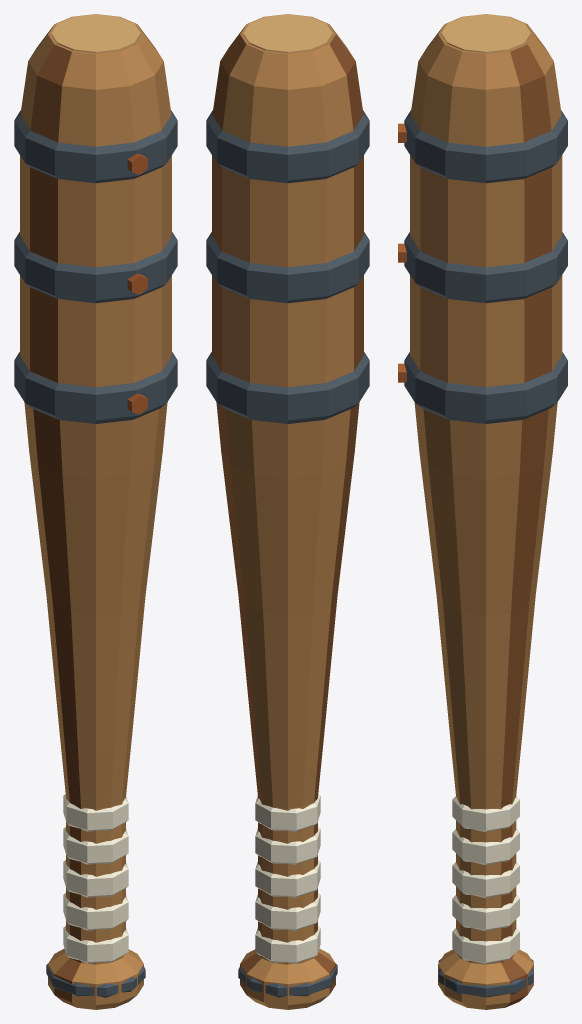
The model's file is baseball_bat.fbx.
3 renders of one model, left to right at view 1: azimuth 30°, elevation 25°; view 2: azimuth 150°, elevation 25°; view 3: azimuth 270°, elevation 25°, orthographic.
Visible parts, largest first — view 1: baseball_bat; view 2: baseball_bat; view 3: baseball_bat.
Boxes of the visible parts, x1,y1,x2,y2 form: baseball_bat: (14, 14, 177, 1009); baseball_bat: (206, 14, 369, 1009); baseball_bat: (398, 14, 567, 1009).
Size of the model in its own units: 0.4934 by 3.2 by 0.5124.
